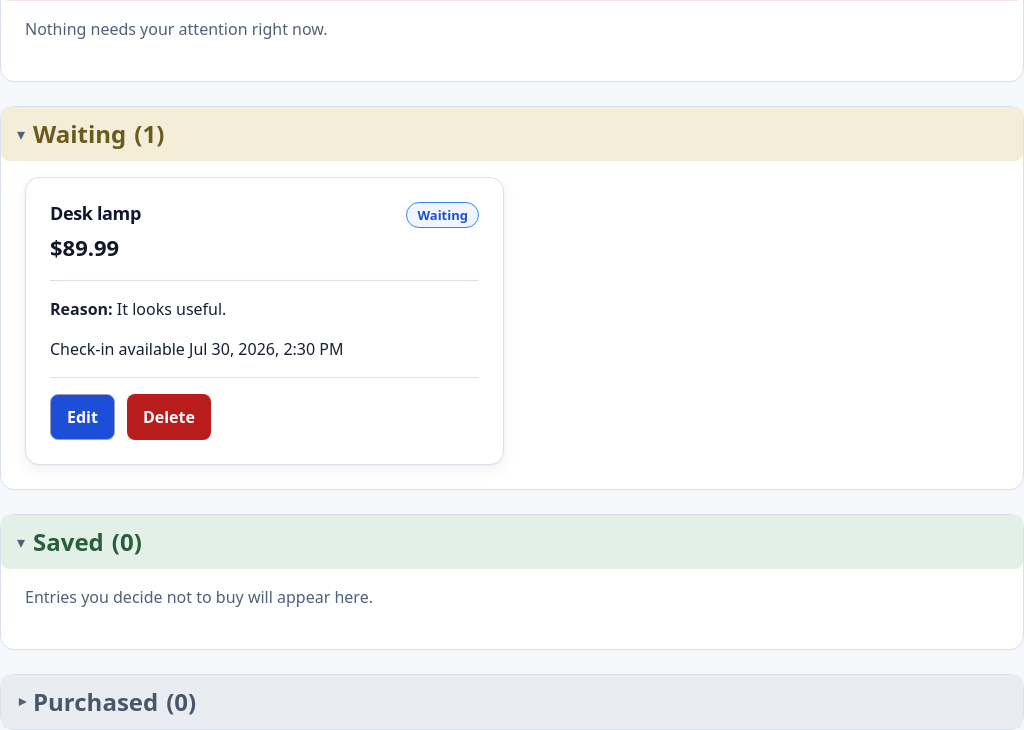
Test: DashboardPage › requires confirmation and restores focus when deletion is cancelled
The width and height of the screenshot is (1024, 730).
(page scrolled)
What coordinates should you click on to do the following:
click the button "Delete"
I would click on:
 (169, 417)
Its box is [127, 394, 211, 440].
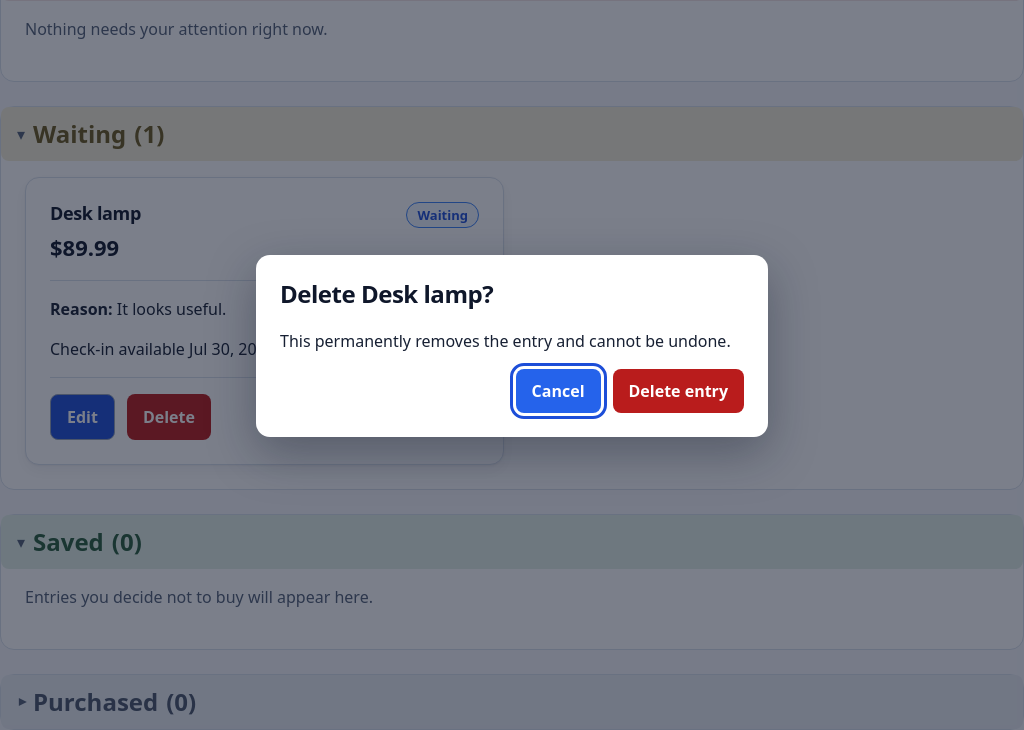
Check: the dialog "Delete Desk lamp?" shows "cannot be undone", box [280, 330, 731, 352]
What coordinates should you click on to do the following:
click the button "Cancel"
I would click on:
 (558, 391)
Its box is [516, 369, 600, 413].
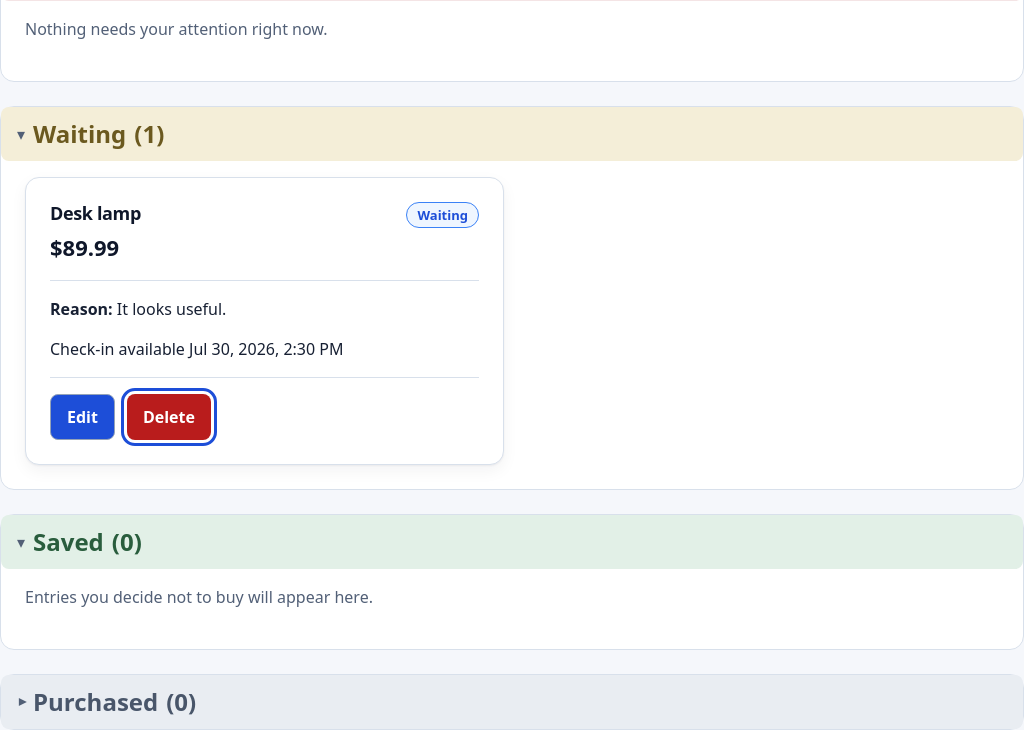
Check: the heading "Desk lamp" is shown, box [50, 202, 141, 225]
Check: the dialog is gone
